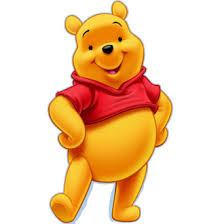Winnie: (53, 2, 163, 110)
